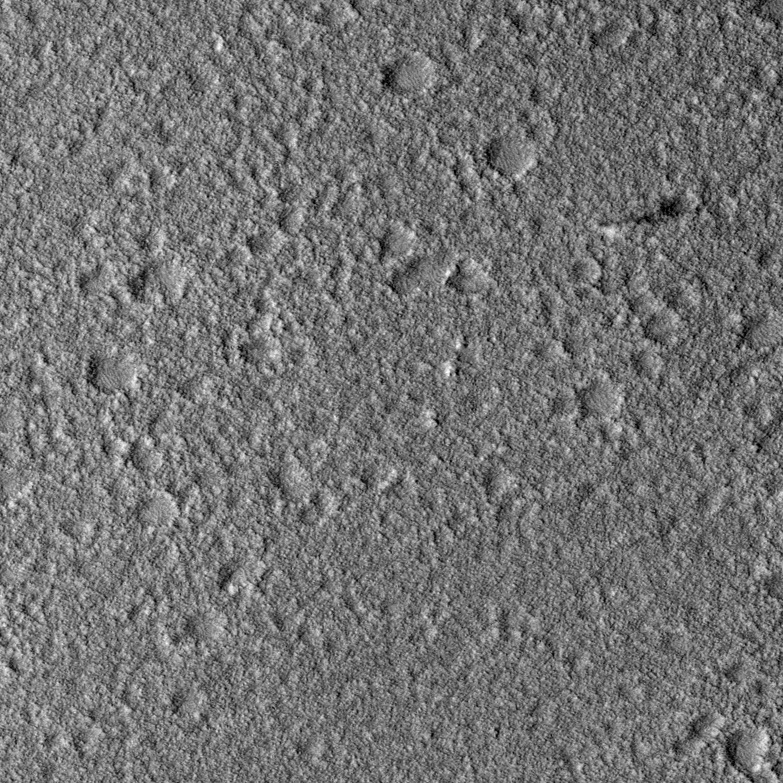dust_devil: (592, 194, 687, 244)
